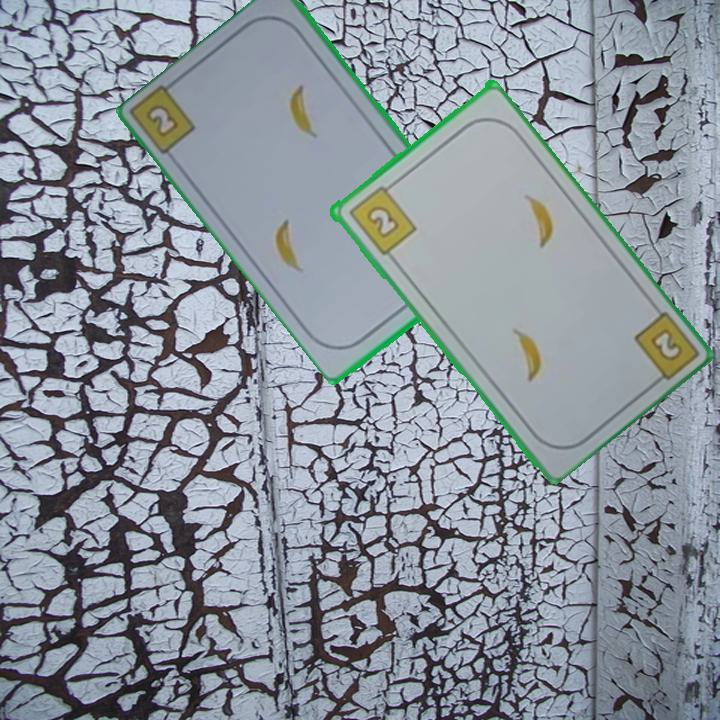2b: (344, 178, 419, 258), (646, 324, 686, 364), (143, 100, 182, 141)
